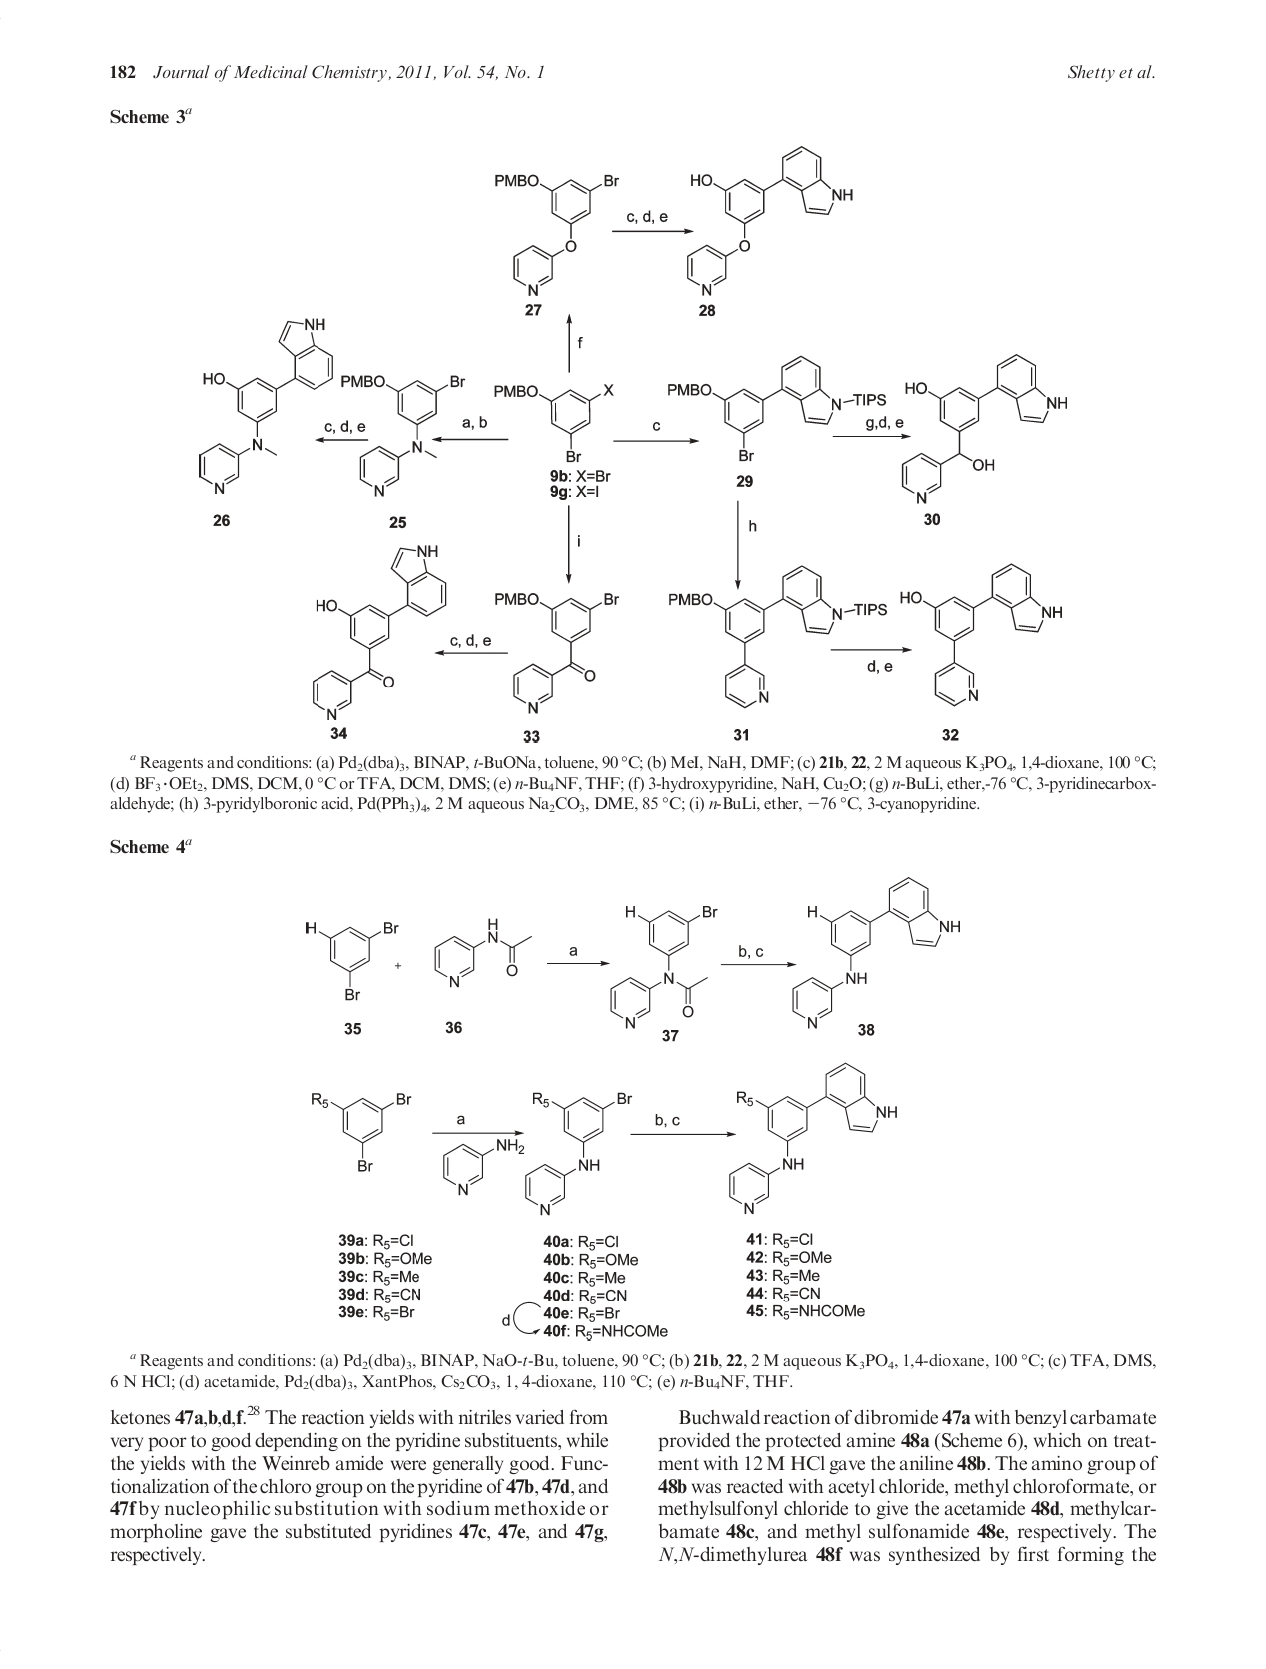exist_molecular: (668, 564, 890, 710), (789, 875, 961, 1029), (898, 352, 1071, 505), (726, 1061, 899, 1214), (684, 144, 856, 295), (194, 317, 336, 496), (309, 543, 449, 722), (666, 354, 888, 463), (898, 561, 1064, 706), (336, 370, 467, 497), (492, 168, 621, 295), (492, 589, 620, 714), (606, 902, 719, 1031), (524, 1087, 632, 1216), (489, 380, 617, 465), (307, 1087, 414, 1176), (301, 918, 402, 1003), (430, 915, 536, 989), (439, 1136, 524, 1200)
